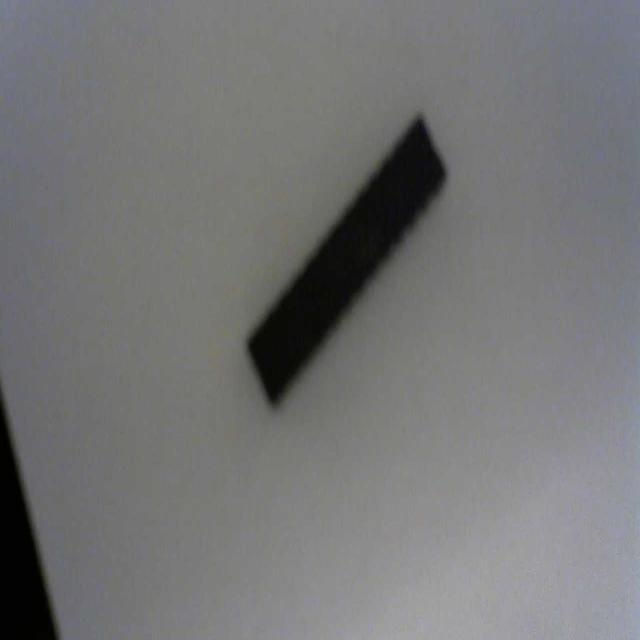atmega: (243, 108, 449, 410)
